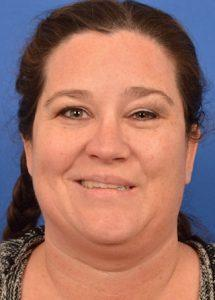strokeEyeWeak: (46, 78, 171, 130)
strokeMouthWeak: (62, 166, 148, 203)
